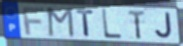F: (21, 7, 46, 37)
J: (154, 11, 174, 40)
L: (101, 8, 123, 40)
M: (47, 7, 76, 39)
T: (127, 9, 147, 41), (75, 9, 95, 38)
